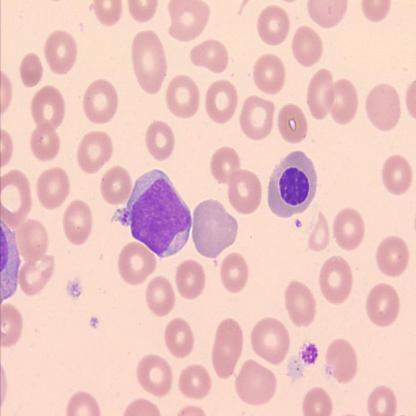NRC: (266, 150, 319, 220)
